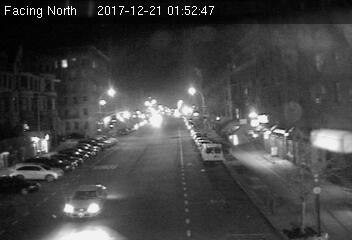car: (62, 184, 110, 218)
truck: (202, 143, 225, 166)
